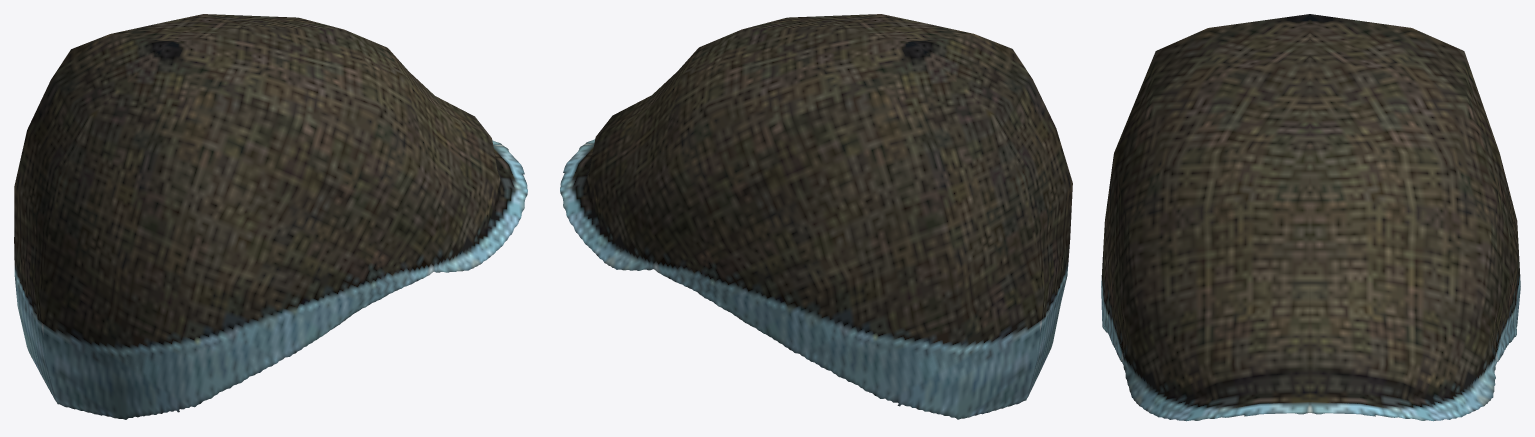
Rendered from hat_0450032.FBX.
3 views of the same model, side by side, from view 1: azimuth 30°, elevation 25°; view 2: azimuth 150°, elevation 25°; view 3: azimuth 270°, elevation 25° (orthographic). The views are drawn at different scales.
Visible parts, largest first — view 1: hat_0450032; view 2: hat_0450032; view 3: hat_0450032.
Boxes of the visible parts, x1,y1,x2,y2 form: hat_0450032: [14, 14, 527, 419]; hat_0450032: [560, 14, 1072, 419]; hat_0450032: [1101, 14, 1520, 421].
Size of the model in its own units: 29.09 by 20.18 by 19.8.
